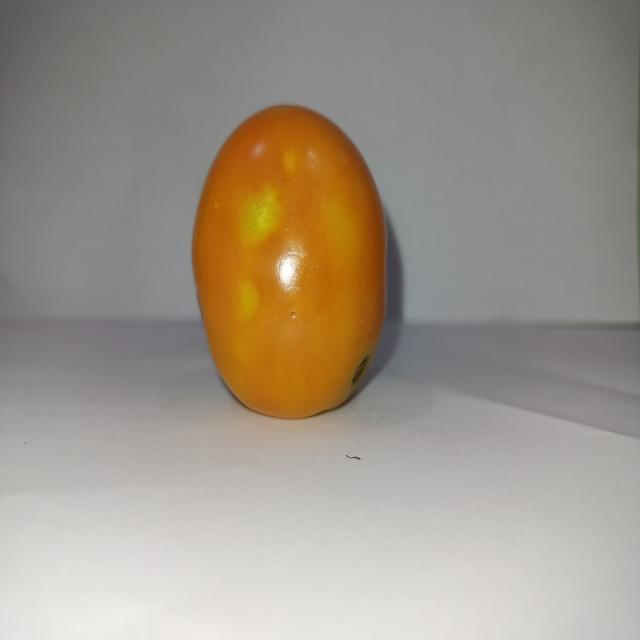Red: (190, 102, 388, 420)
